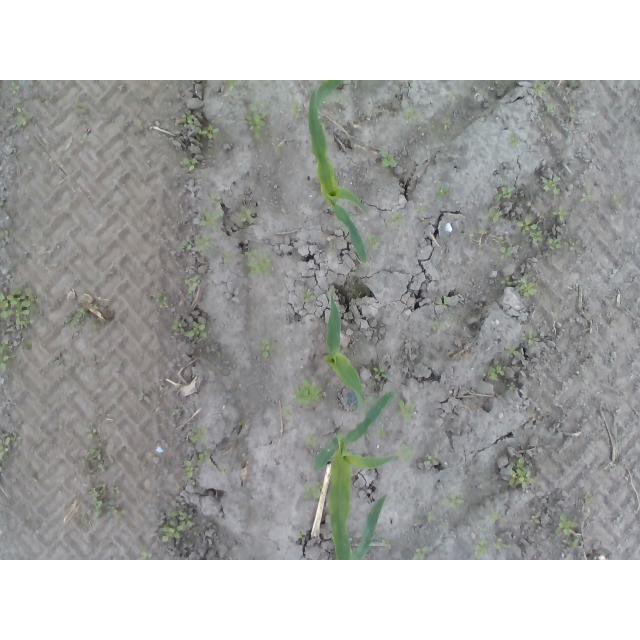Maize: (312, 392, 394, 561), (305, 80, 367, 265), (323, 295, 366, 414)
Weeds: (0, 289, 36, 331), (154, 508, 194, 545), (79, 425, 106, 471), (63, 304, 100, 331), (514, 215, 547, 245), (242, 248, 274, 277), (510, 457, 537, 491), (87, 483, 117, 513), (555, 512, 579, 549), (245, 103, 268, 141), (0, 431, 20, 473), (169, 317, 207, 339), (295, 377, 322, 407), (472, 538, 508, 560), (175, 235, 212, 253), (199, 211, 224, 234), (303, 479, 326, 502), (478, 208, 507, 225), (493, 182, 513, 206), (397, 398, 416, 423), (518, 278, 540, 298), (0, 340, 12, 374), (187, 424, 207, 444), (152, 289, 171, 310), (483, 363, 505, 381), (14, 105, 32, 127), (180, 155, 200, 174), (379, 149, 397, 170), (197, 123, 218, 141), (256, 339, 273, 360), (543, 175, 562, 193), (399, 110, 417, 129), (183, 276, 201, 295), (366, 232, 383, 252), (237, 206, 256, 222), (448, 494, 465, 511), (416, 545, 435, 560), (196, 450, 212, 467), (303, 435, 319, 450), (392, 208, 406, 225), (180, 111, 197, 125), (401, 446, 415, 463), (372, 366, 389, 380), (6, 80, 20, 96), (302, 288, 315, 305), (498, 274, 515, 287), (281, 403, 296, 417), (431, 319, 450, 330), (500, 246, 516, 259), (548, 238, 565, 250), (506, 132, 520, 145), (532, 82, 545, 96), (425, 454, 440, 466), (557, 206, 567, 223), (436, 186, 449, 199), (488, 512, 501, 525), (1, 229, 12, 244), (210, 192, 222, 205), (224, 80, 237, 92), (182, 465, 194, 478), (447, 91, 458, 105), (438, 295, 452, 306), (503, 350, 520, 359), (375, 430, 390, 439), (580, 190, 592, 201), (291, 103, 303, 114), (530, 515, 542, 525), (568, 106, 577, 119), (504, 381, 514, 392), (478, 228, 489, 238), (527, 331, 535, 344), (140, 553, 152, 560), (584, 496, 593, 505), (379, 539, 387, 545)
